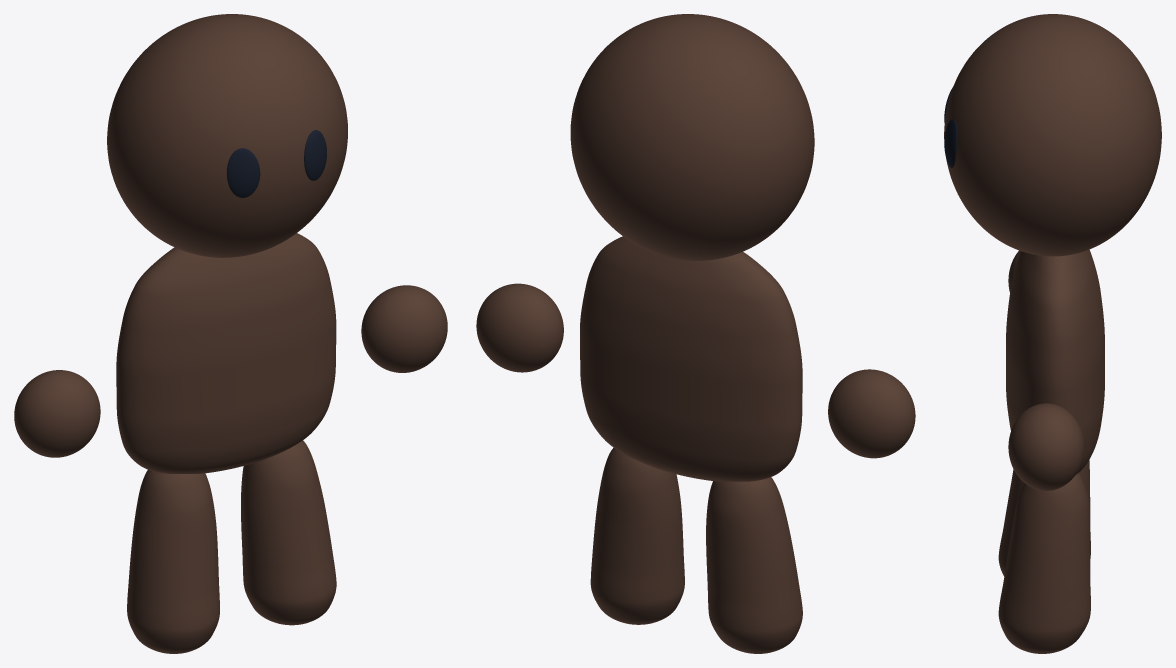
File: Masculine-skin3.glb
3 renders of one model, left to right at view 1: azimuth 30°, elevation 25°; view 2: azimuth 150°, elevation 25°; view 3: azimuth 270°, elevation 25°, orthographic. The views are drawn at different scales.
Parts seen in each view (by area): view 1: Round head, Rounded torso, Left leg blob, Right leg blob, Left round hand, Right round hand, Left optional eye, Right optional eye; view 2: Round head, Rounded torso, Left leg blob, Right leg blob, Left round hand, Right round hand; view 3: Round head, Rounded torso, Right leg blob, Right round hand, Left leg blob, Right optional eye.
Part boxes in pixels (left/top/right/bottom): Round head: left=107, top=14, right=347, bottom=257; Rounded torso: left=116, top=233, right=336, bottom=473; Left leg blob: left=127, top=469, right=219, bottom=653; Right leg blob: left=241, top=440, right=336, bottom=625; Left round hand: left=14, top=370, right=100, bottom=457; Right round hand: left=361, top=285, right=447, bottom=372; Left optional eye: left=226, top=148, right=260, bottom=197; Right optional eye: left=304, top=130, right=326, bottom=180; Round head: left=570, top=14, right=814, bottom=260; Rounded torso: left=580, top=236, right=802, bottom=481; Left leg blob: left=706, top=477, right=802, bottom=653; Right leg blob: left=590, top=447, right=684, bottom=624; Left round hand: left=828, top=369, right=915, bottom=458; Right round hand: left=476, top=283, right=563, bottom=372; Round head: left=944, top=14, right=1161, bottom=256; Rounded torso: left=1006, top=249, right=1104, bottom=474; Right leg blob: left=998, top=473, right=1090, bottom=653; Right round hand: left=1008, top=403, right=1084, bottom=490; Left leg blob: left=998, top=460, right=1090, bottom=576; Right optional eye: left=944, top=119, right=957, bottom=167.
Bounding box in the file's own units: 1.94 × 2.65 × 0.88.
